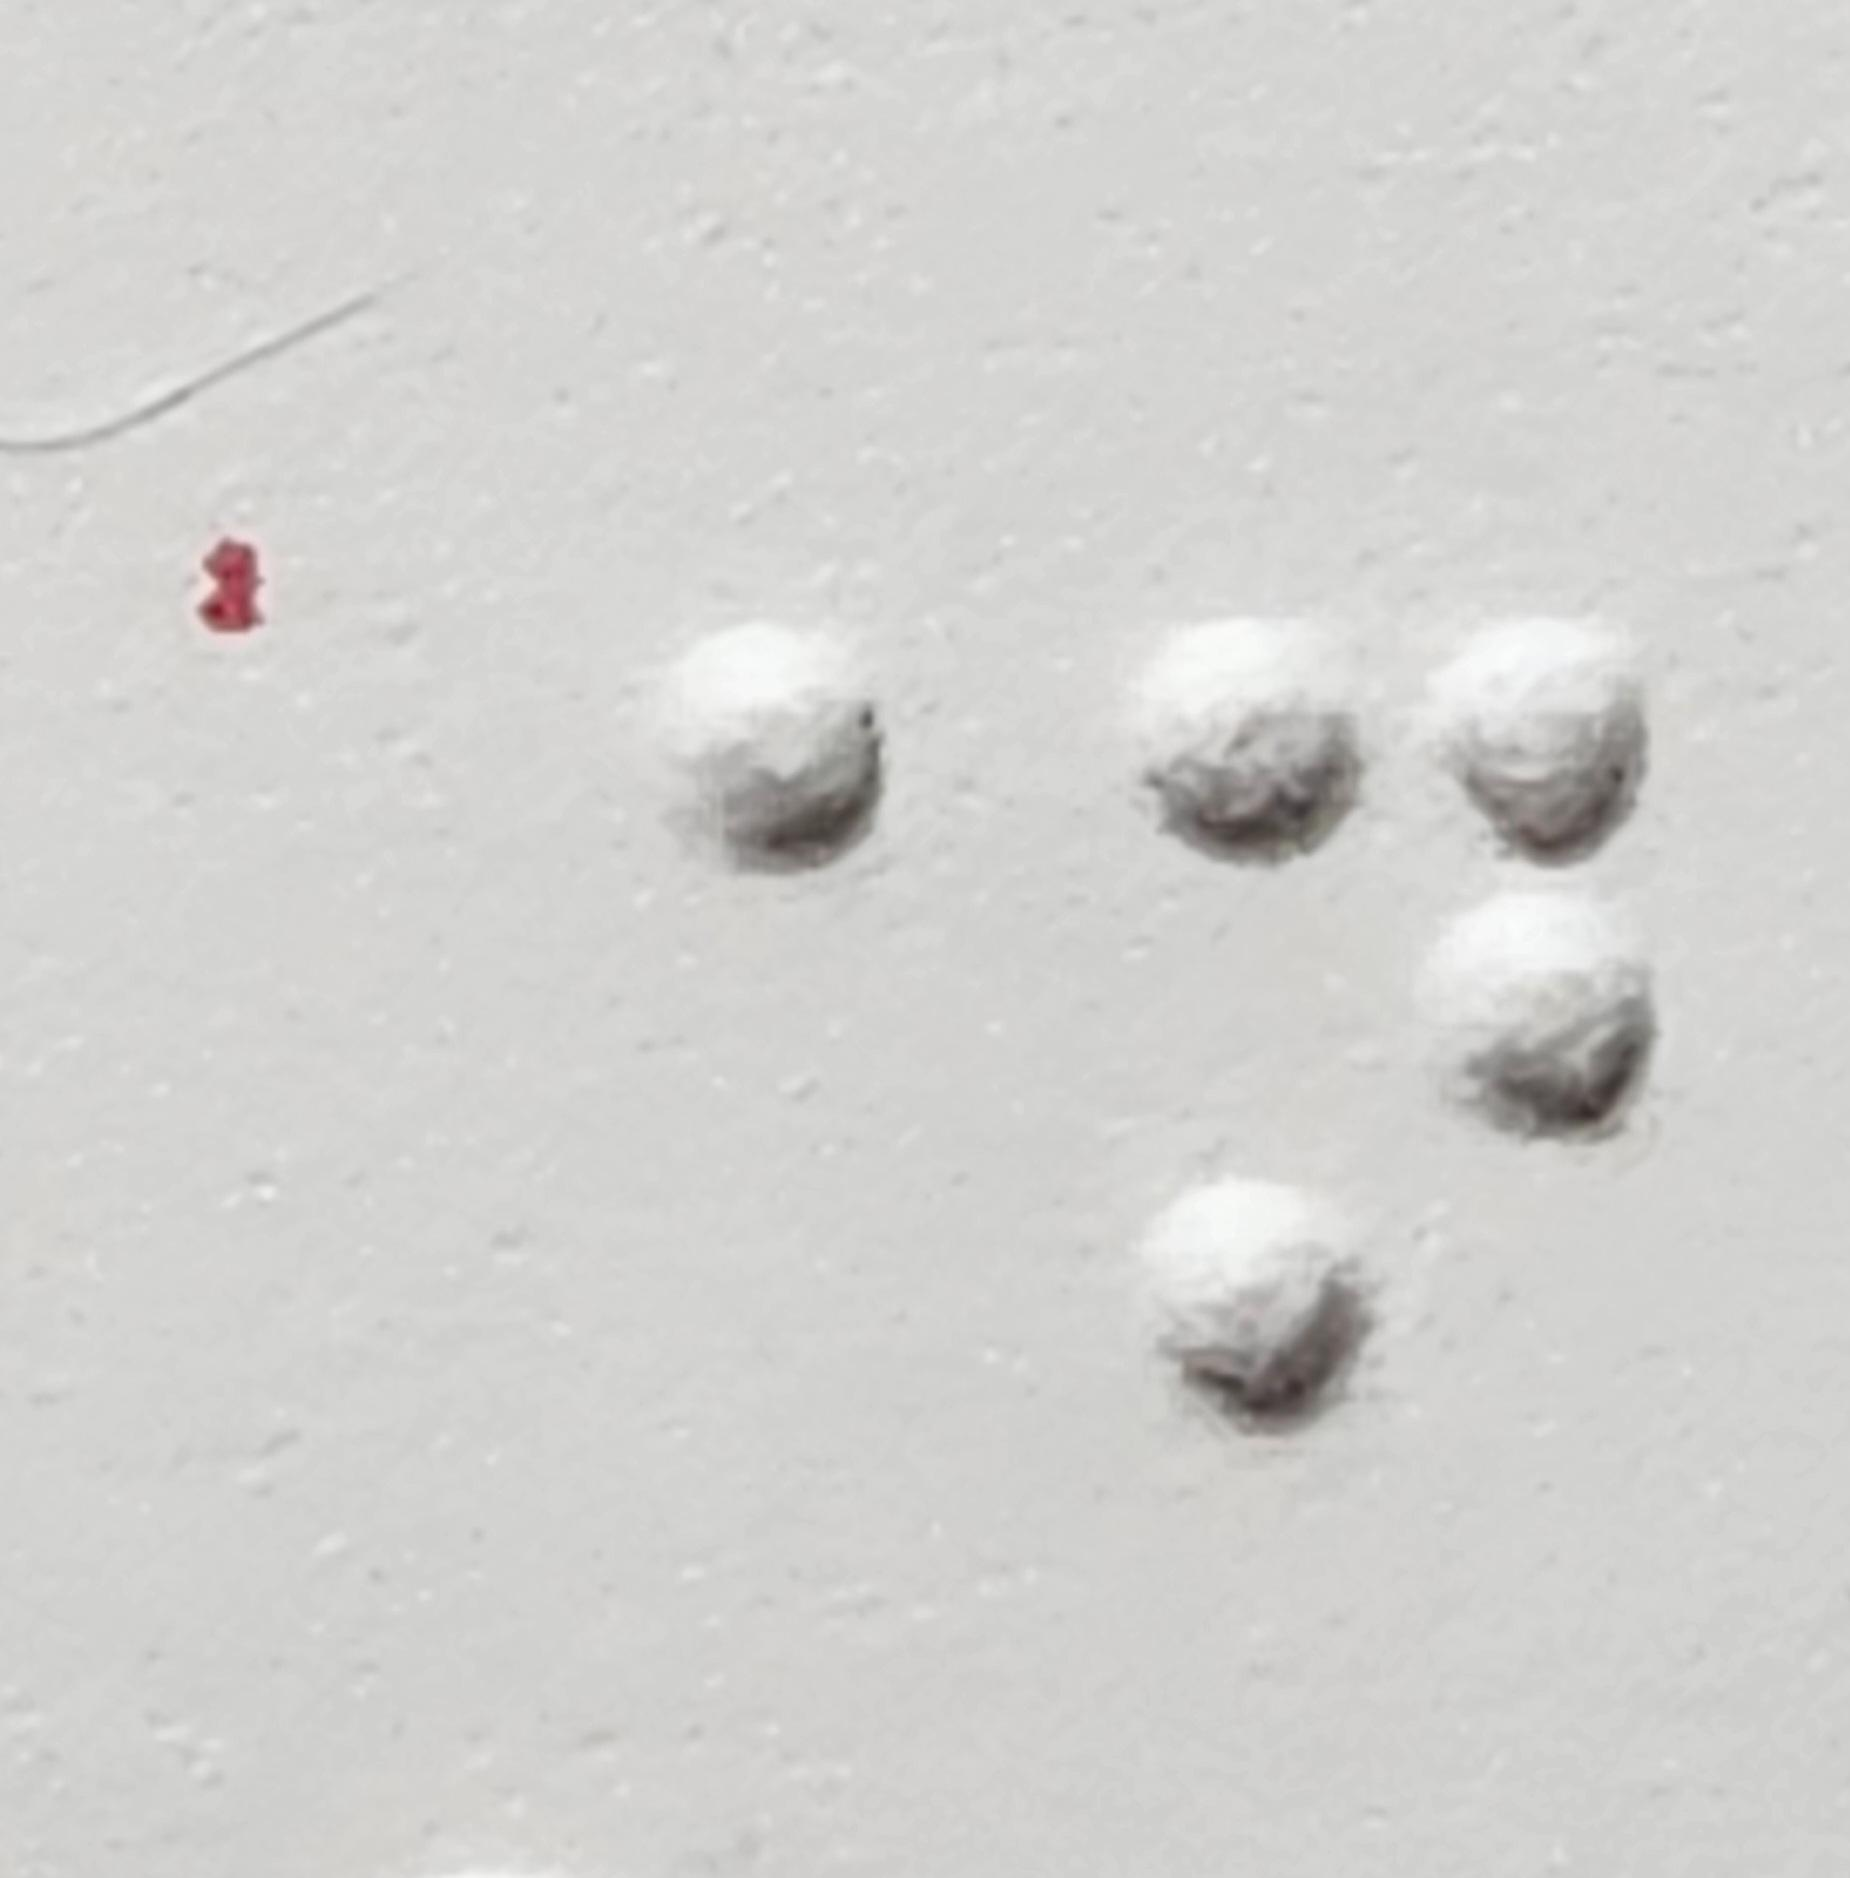dot_4: (366, 620, 896, 1458)
letter_n: (1140, 616, 1672, 1455)
